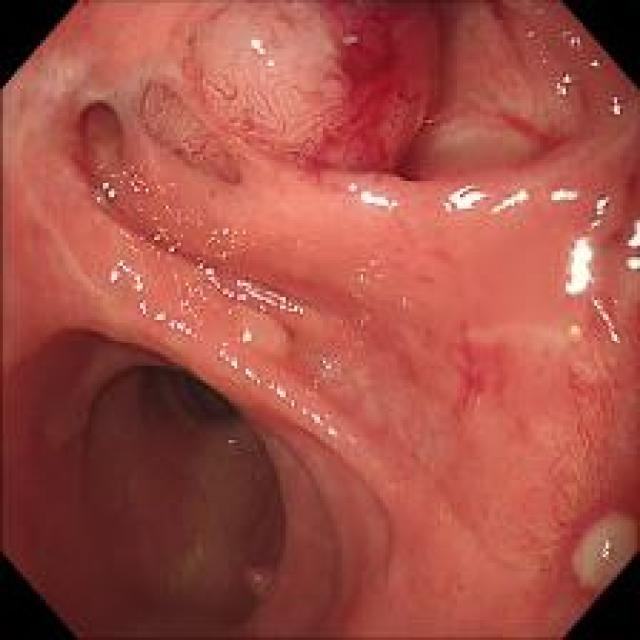blood: (310, 6, 450, 178)
specularity: (109, 248, 371, 448), (100, 165, 244, 262), (560, 229, 622, 342), (436, 175, 534, 221), (245, 28, 289, 80), (351, 181, 399, 218), (589, 180, 615, 241), (546, 69, 578, 104), (548, 186, 584, 211), (555, 24, 581, 55), (626, 211, 638, 278), (606, 82, 625, 124), (600, 530, 611, 566), (588, 51, 601, 78)
